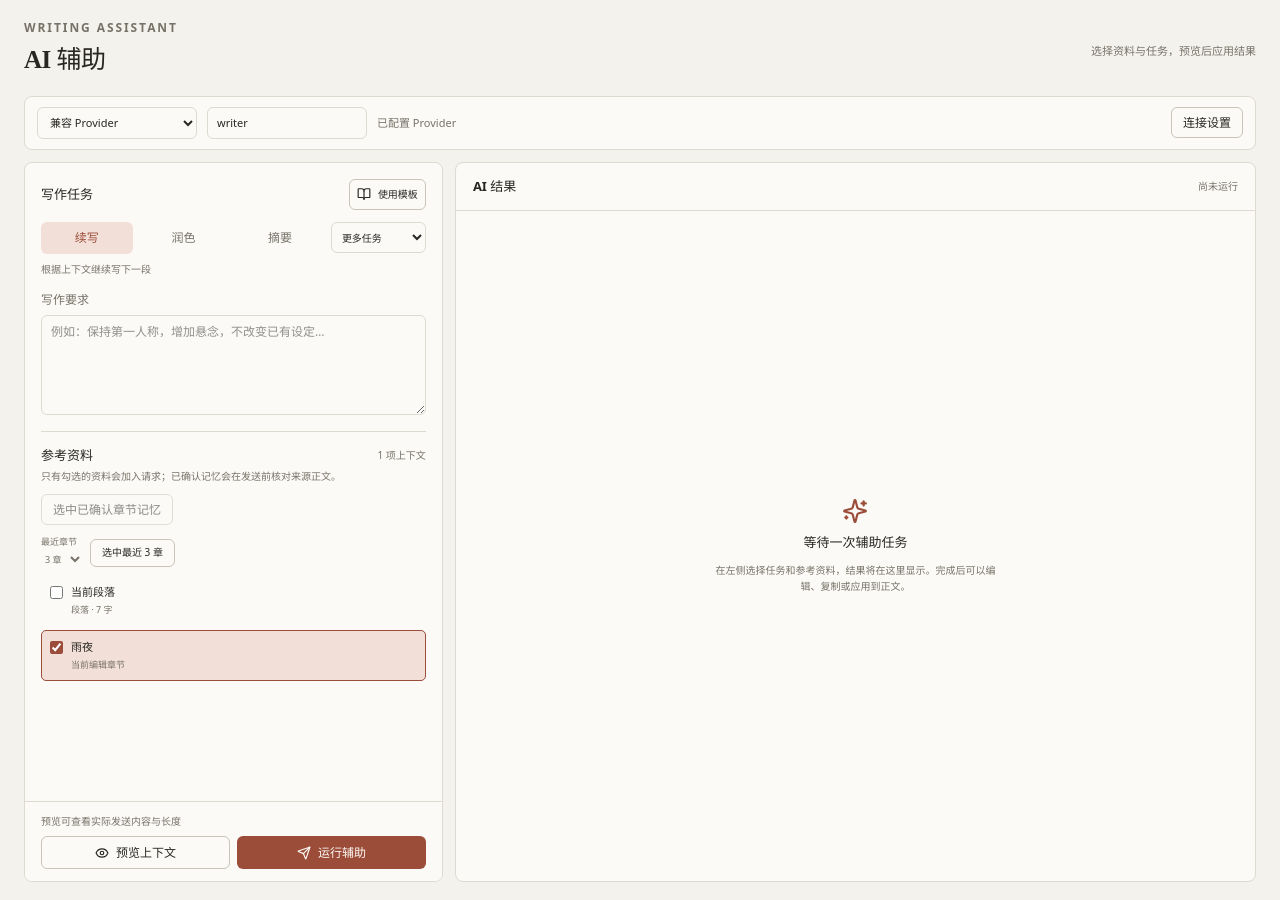
Test: labels a truncated result and never offers manuscript replacement
Click the button "运行辅助" at (331, 852), box [237, 836, 426, 869]
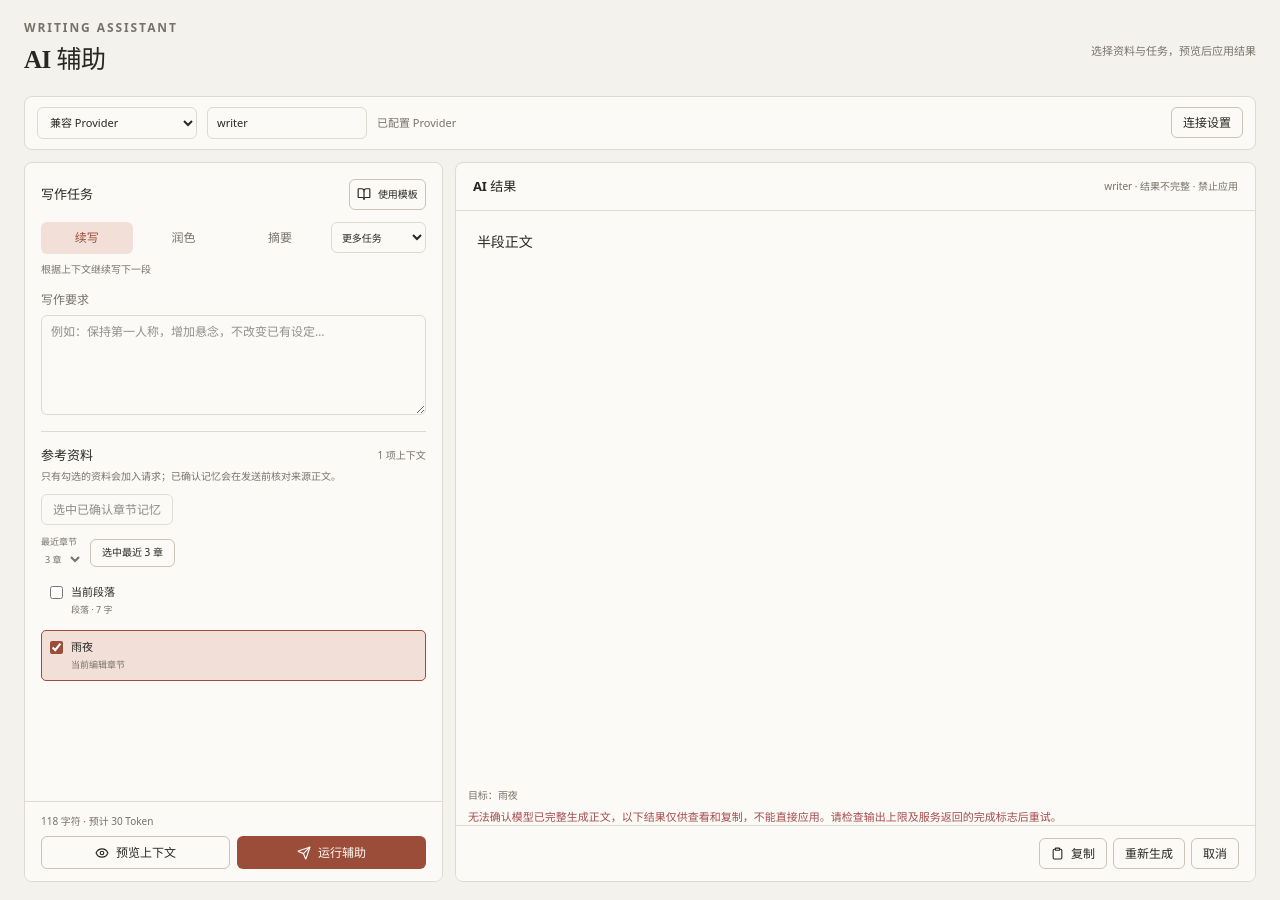
Result: the text "writer · 结果不完整 · 禁止应用" is shown at [1104, 179, 1238, 194]
Result: the button "复制" is shown at [1039, 838, 1107, 869]
